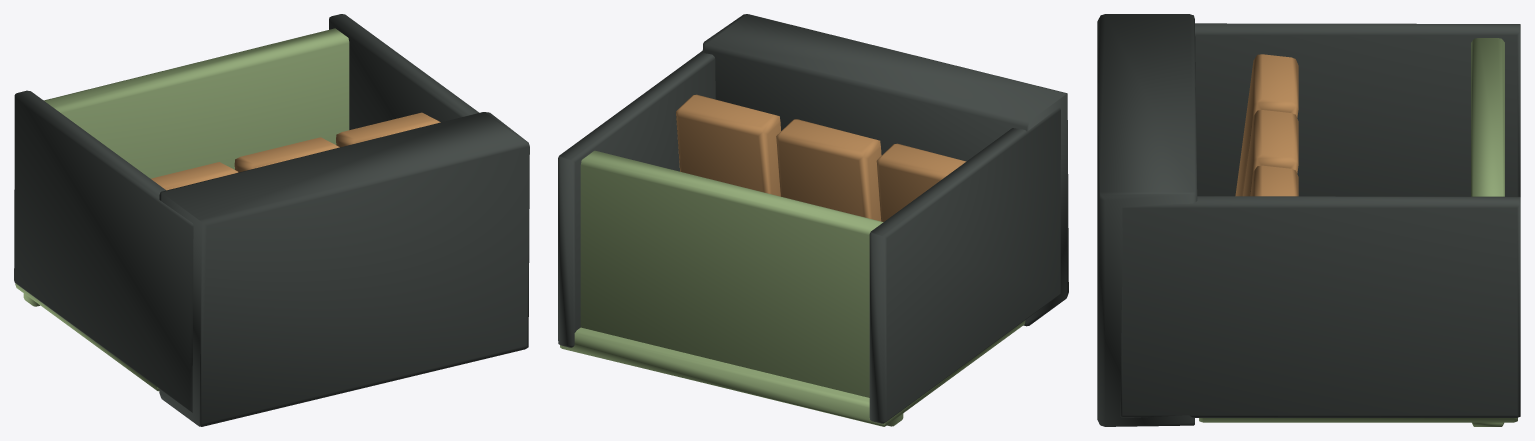
File: display_produce_mixed.glb
3 renders of one model, left to right at view 1: azimuth 30°, elevation 25°; view 2: azimuth 150°, elevation 25°; view 3: azimuth 270°, elevation 25°, orthographic. The views are drawn at different scales.
Parts seen in each view (by area): view 1: Plinth, Post, Canopy, Post.001, ProduceBin.001, ProduceBin.002, ProduceBin, Backboard; view 2: Canopy, Post, Plinth, Post.001, Backboard, ProduceBin.001, ProduceBin.002, ProduceBin; view 3: Post.001, Post, Plinth, Canopy, ProduceBin, ProduceBin.001, Backboard, ProduceBin.002.
Boxes of the visible parts, box(x1,y1,x2,y2) form: Plinth: box(159, 112, 529, 426); Post: box(14, 90, 193, 412); Canopy: box(23, 28, 349, 306); Post.001: box(329, 14, 479, 129); ProduceBin.001: box(234, 137, 339, 172); ProduceBin.002: box(336, 112, 440, 147); ProduceBin: box(151, 162, 238, 190); Backboard: box(15, 283, 159, 391); Canopy: box(580, 150, 903, 426); Post: box(869, 107, 1060, 423); Plinth: box(702, 14, 1068, 326); Post.001: box(558, 51, 715, 347); Backboard: box(560, 320, 1025, 426); ProduceBin.001: box(776, 119, 881, 221); ProduceBin.002: box(676, 94, 780, 196); ProduceBin: box(876, 143, 966, 221); Post.001: box(1120, 196, 1520, 417); Post: box(1195, 23, 1520, 196); Plinth: box(1097, 14, 1197, 426); Canopy: box(1471, 38, 1504, 426); ProduceBin: box(1235, 54, 1298, 196); ProduceBin.001: box(1243, 110, 1298, 196); Backboard: box(1199, 417, 1517, 422); ProduceBin.002: box(1250, 165, 1298, 196).
Size of the model in its own units: 1.9 by 1.14 by 1.86.
